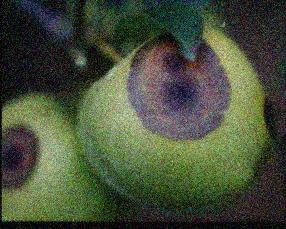rotten apple: (80, 26, 278, 214), (1, 92, 118, 221)
